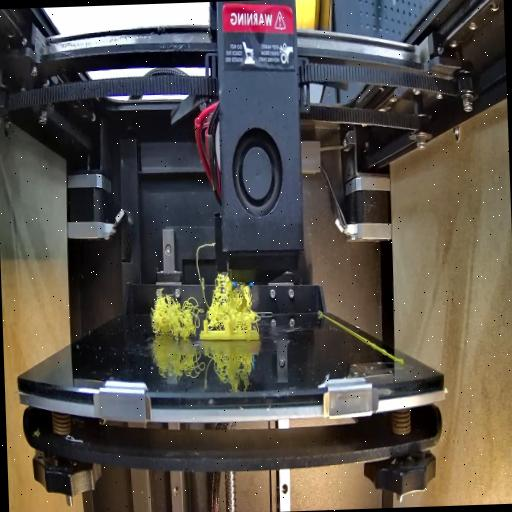spaghetti: (140, 266, 262, 340)
